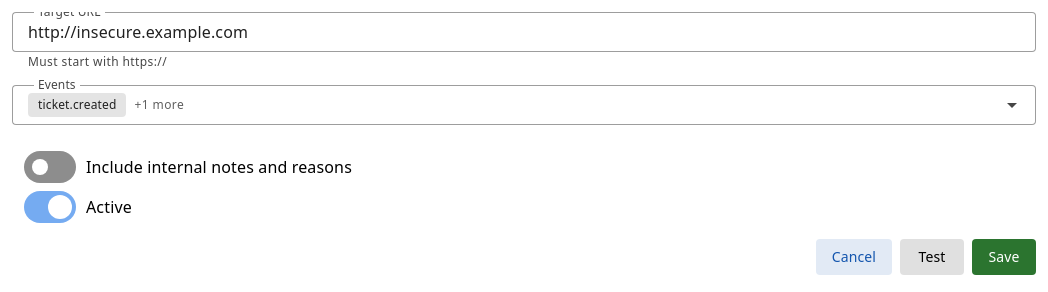
Test case: WebhookForm (FE-040, FE-005) › Test validates the form first: an invalid form sends no /test request
Click the button "Test" at point(932, 257), box left=900, top=239, right=964, bottom=275
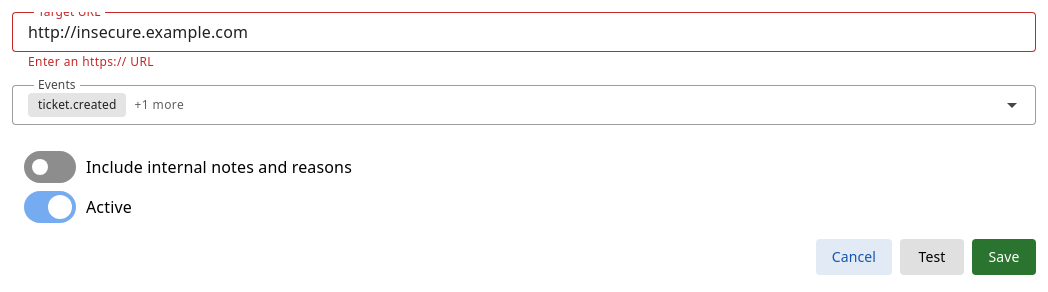
Expected: the text "Enter an https:// URL" is shown, left=28, top=53, right=154, bottom=70
